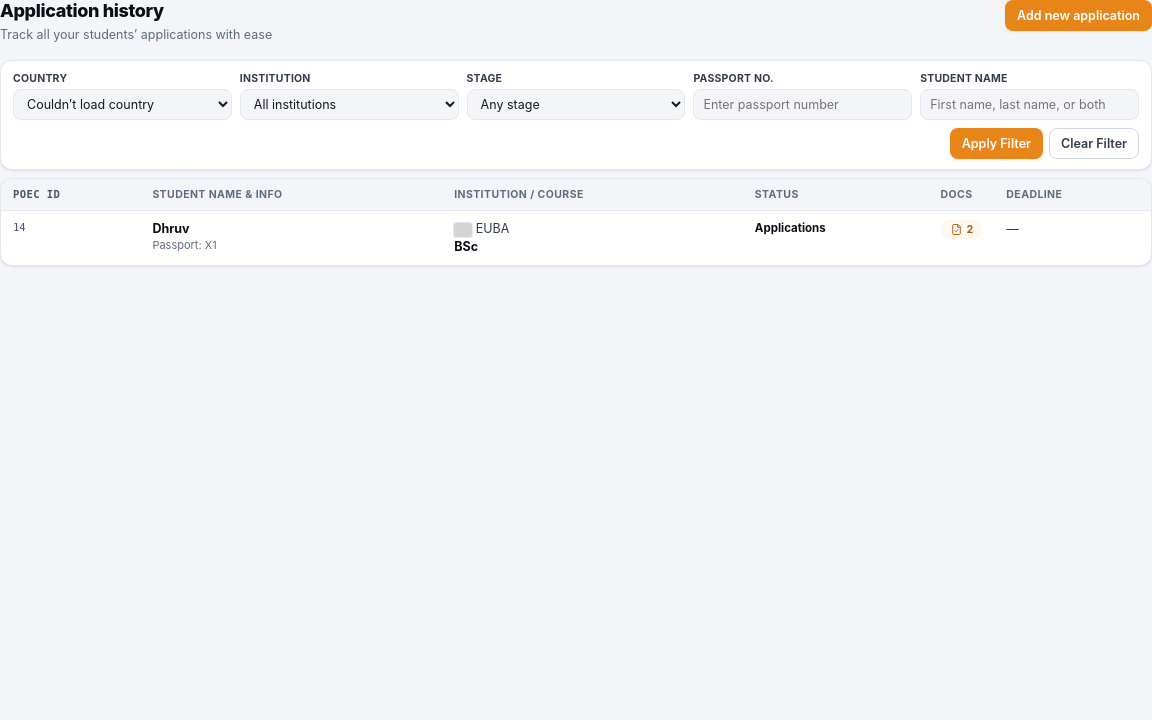
it: the documents chip on an applications row › opens the panel once, not twice
The image size is (1152, 720).
Expected: the text "Dhruv" is shown, [152,221,190,236]
What coordinates should you click on to do the following:
click the button with class "docs-chip"
I would click on:
 (961, 230)
Its box is [940,220,982,239].
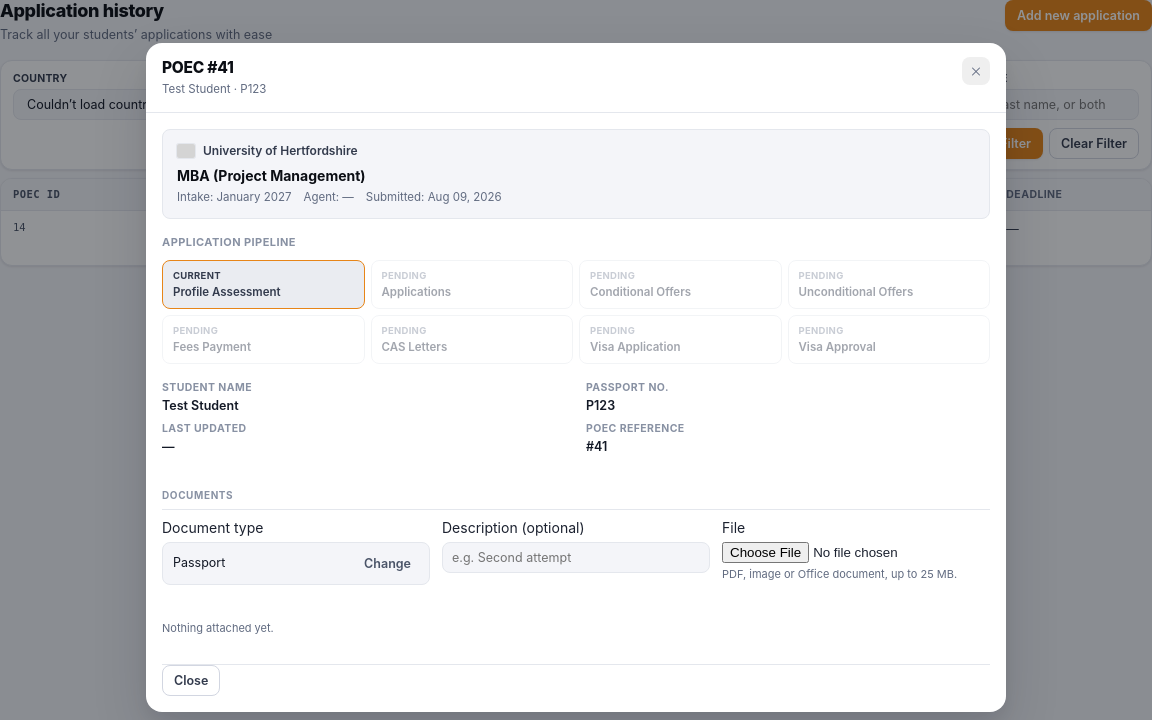
Now the text "Documents" is shown, box [162,488,990,510]
